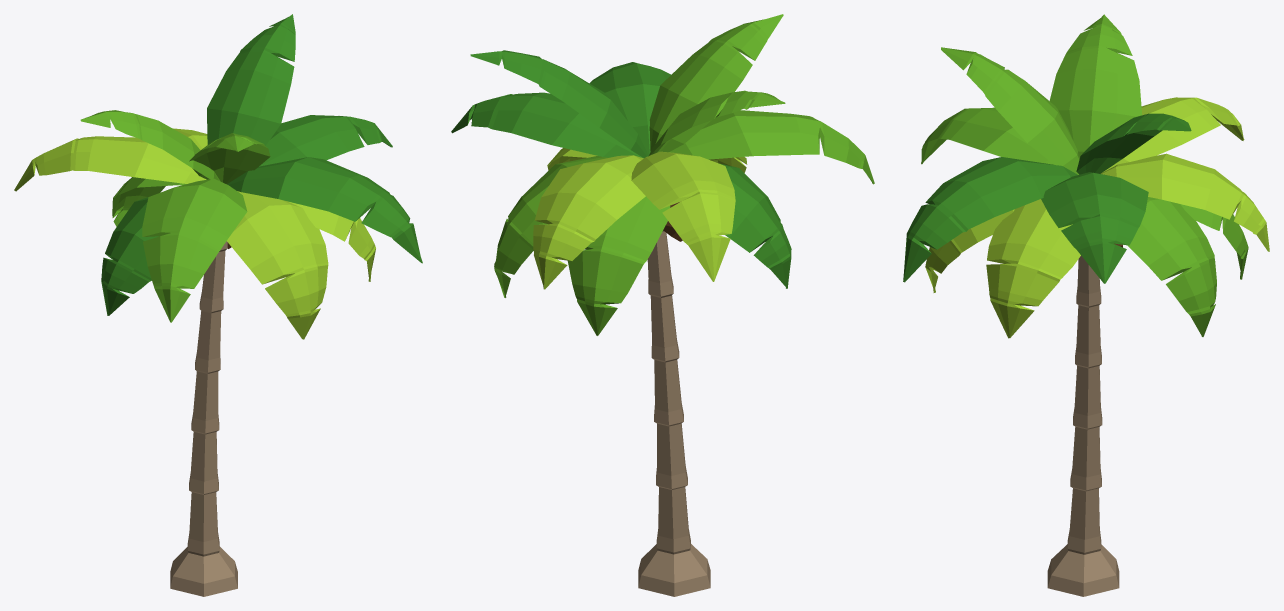
Rendered from palma.glb.
3 renders of one model, left to right at view 1: azimuth 30°, elevation 25°; view 2: azimuth 150°, elevation 25°; view 3: azimuth 270°, elevation 25°, orthographic. The views are drawn at different scales.
Parts seen in each view (by area): view 1: palma; view 2: palma; view 3: palma.
Part boxes in pixels (box(x1,y1,x2,y2)): palma: box(14, 14, 422, 596); palma: box(451, 14, 874, 596); palma: box(903, 14, 1269, 596).
Bounding box in the file's own units: 4.24 × 6.44 × 4.09.
